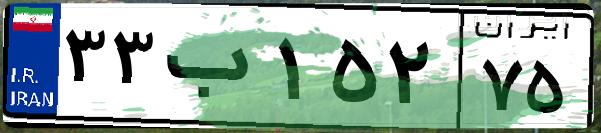1: (270, 28, 330, 110)
2: (385, 28, 445, 110)
3: (57, 26, 110, 100), (110, 28, 158, 98)
5: (330, 28, 385, 110), (525, 38, 570, 115)
7: (475, 38, 525, 113)
ب: (158, 20, 270, 120)
